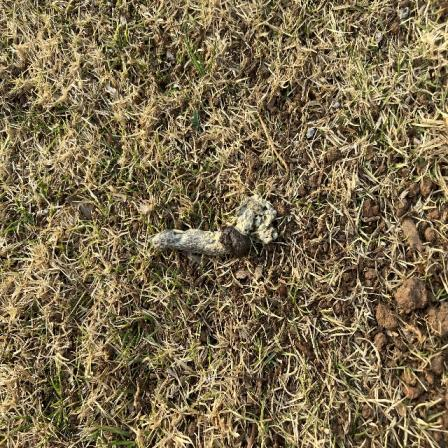dog-poop: (155, 200, 277, 257)
